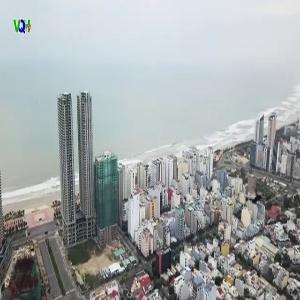drone: (234, 174, 283, 223)
